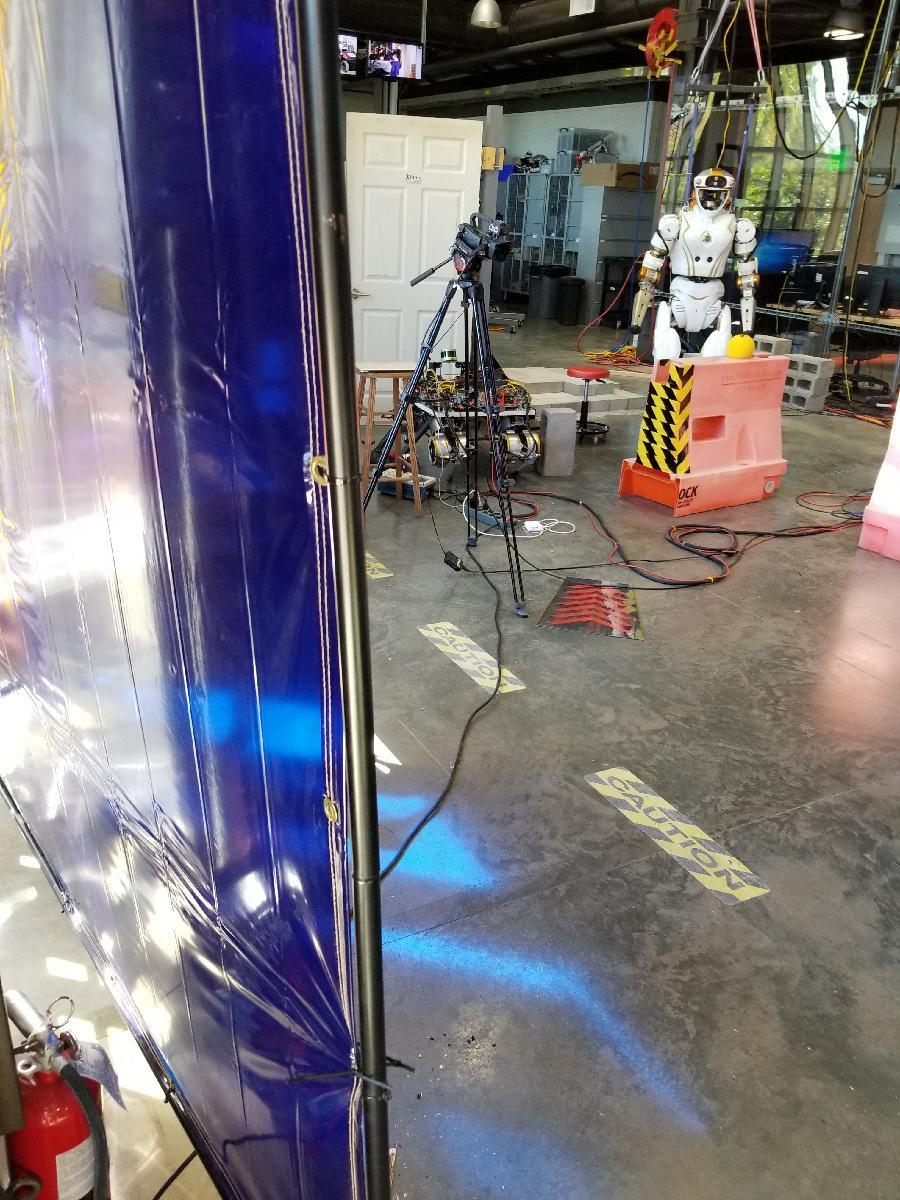door: (348, 113, 474, 384)
